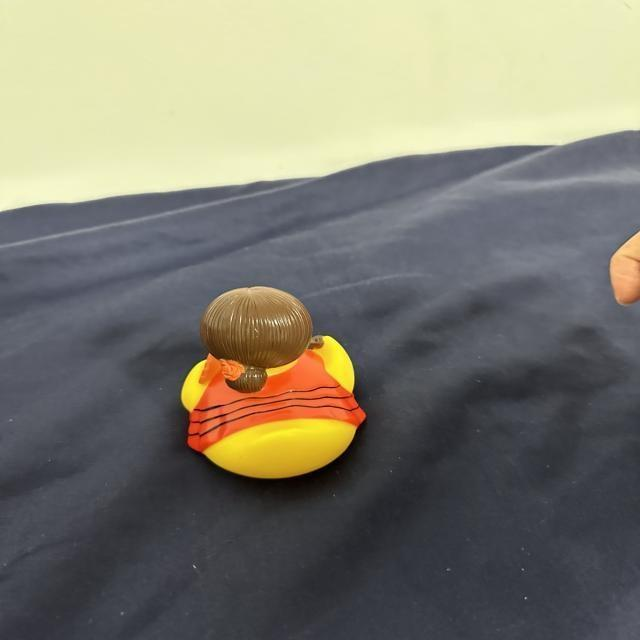rubber-duck: (180, 285, 363, 476)
